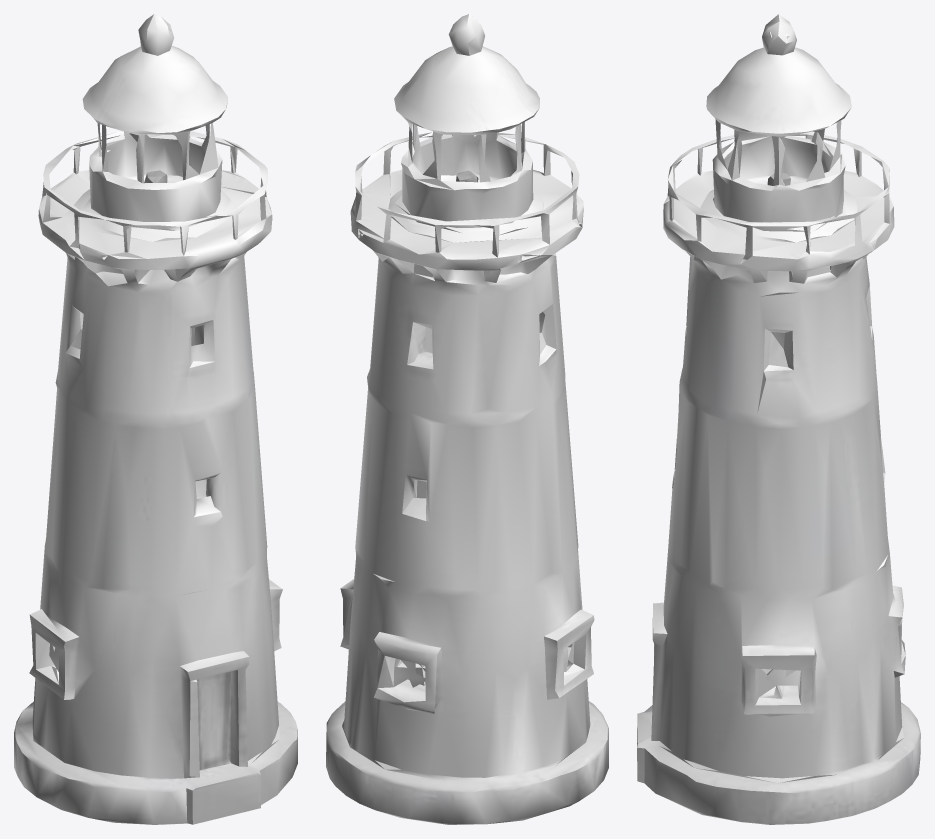
File: lighthouse.glb
3 renders of one model, left to right at view 1: azimuth 30°, elevation 25°; view 2: azimuth 150°, elevation 25°; view 3: azimuth 270°, elevation 25°, orthographic.
Visible parts, largest first — view 1: lighthouse; view 2: lighthouse; view 3: lighthouse.
Boxes of the visible parts, <box> form: lighthouse: <box>14,14,297,824</box>; lighthouse: <box>326,14,608,824</box>; lighthouse: <box>637,14,920,824</box>.
Size of the model in its own units: 3.08 by 9 by 3.08.
Materials: 1 (1 with a texture image).
